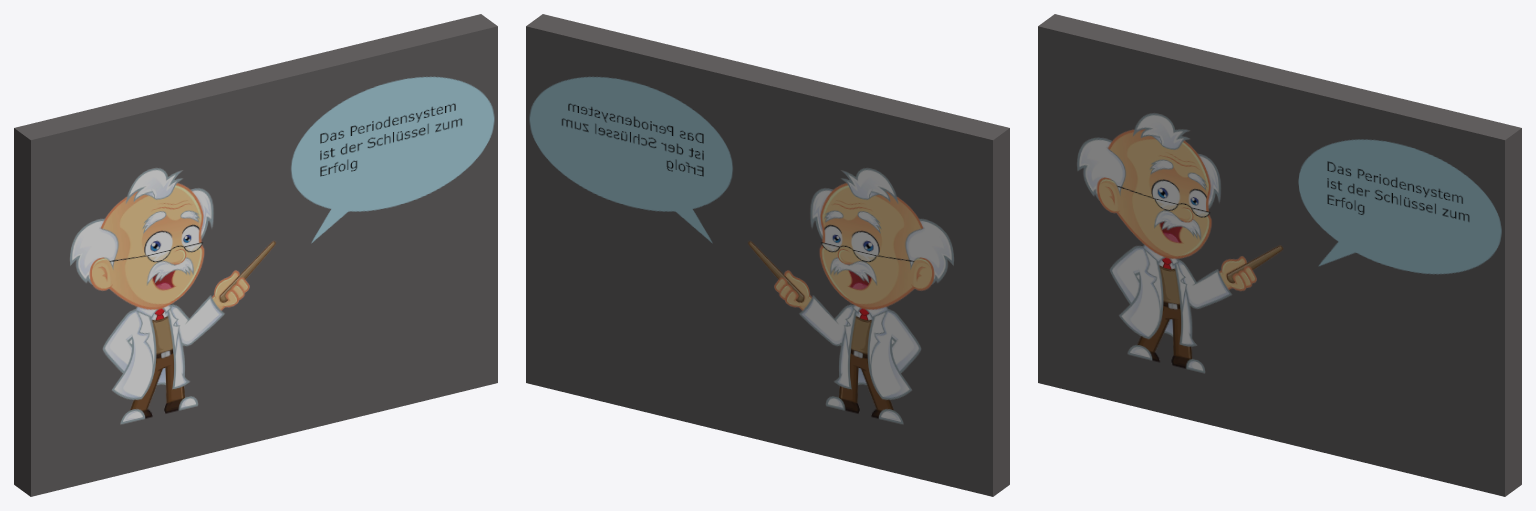
File: prof_pic.glb
The picture shows the model from 3 angles, left to right: view 1: azimuth 30°, elevation 25°; view 2: azimuth 150°, elevation 25°; view 3: azimuth 330°, elevation 25°; orthographic projection.
Parts seen in each view (by area): view 1: Plane; view 2: Plane; view 3: Plane.
Boxes of the visible parts, x1,y1,x2,y2 form: Plane: (14, 14, 497, 496); Plane: (526, 14, 1009, 496); Plane: (1038, 14, 1521, 496).
Bounding box in the file's own units: 1.7 × 1.24 × 0.1058.
Materials: 1 (1 with a texture image).
